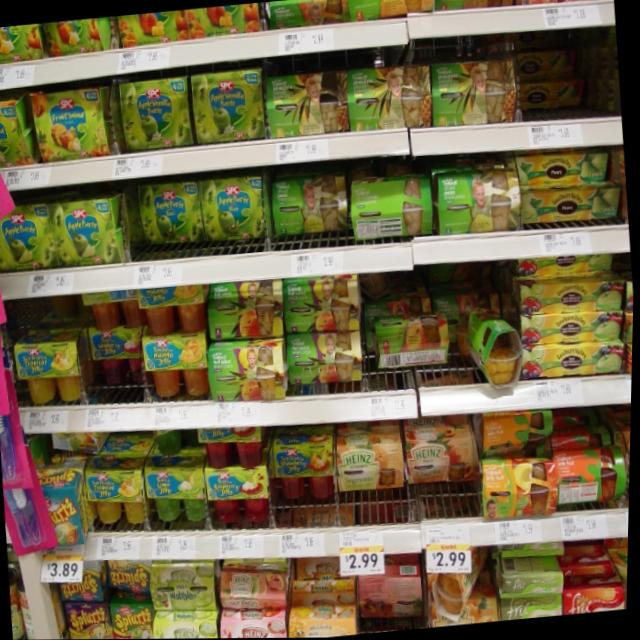q121: (31, 78, 110, 171), (121, 69, 199, 161), (134, 175, 208, 261), (52, 193, 125, 271), (194, 64, 266, 143), (205, 181, 272, 254)
